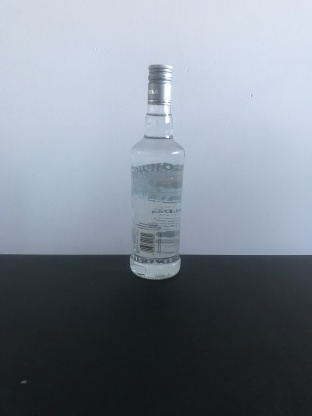nakretka: (146, 62, 173, 108)
